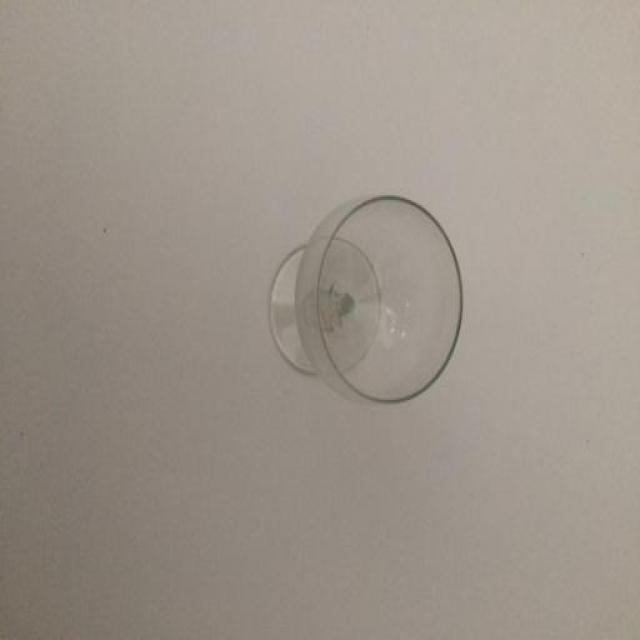glass: (264, 190, 468, 412)
